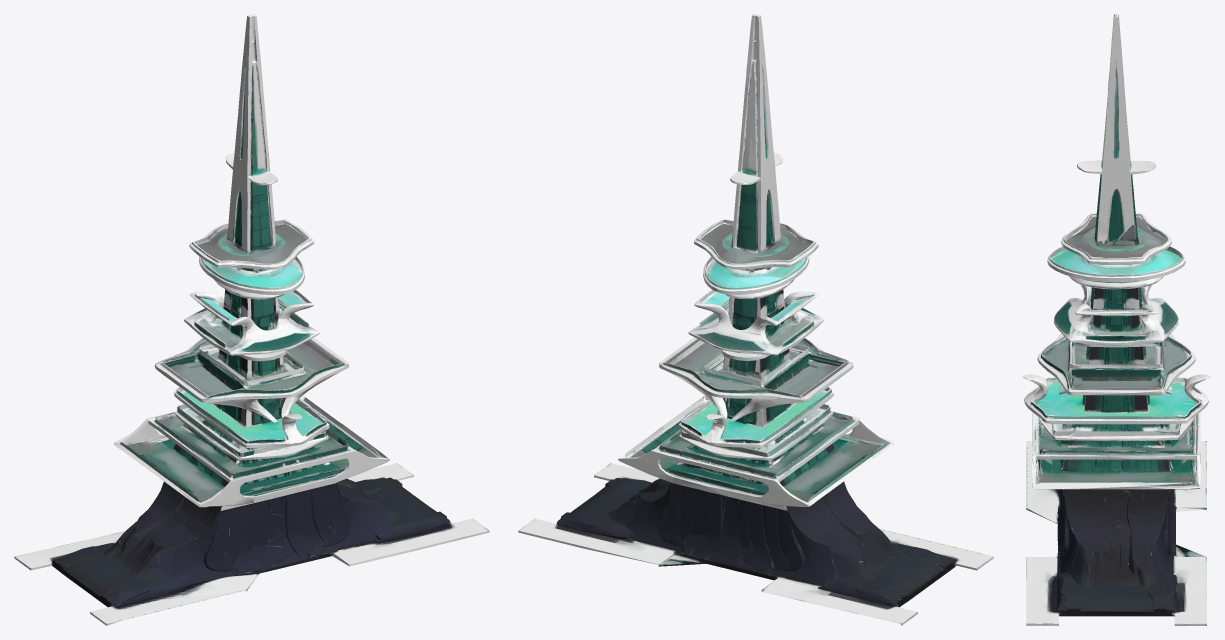
The model's file is bld-sea-terrace-spire-mesh.glb.
3 views of the same model, side by side, from view 1: azimuth 30°, elevation 25°; view 2: azimuth 150°, elevation 25°; view 3: azimuth 270°, elevation 25° (orthographic). The views are drawn at different scales.
Visible parts, largest first — view 1: Mesh_0; view 2: Mesh_0; view 3: Mesh_0.
Part boxes in pixels (x1,y1,x2,y2): Mesh_0: (14,14,489,625); Mesh_0: (518,14,993,625); Mesh_0: (1022,14,1210,625).
Size of the model in its own units: 1.43 by 1.9 by 0.6241.
Materials: 1 (1 with a texture image).
